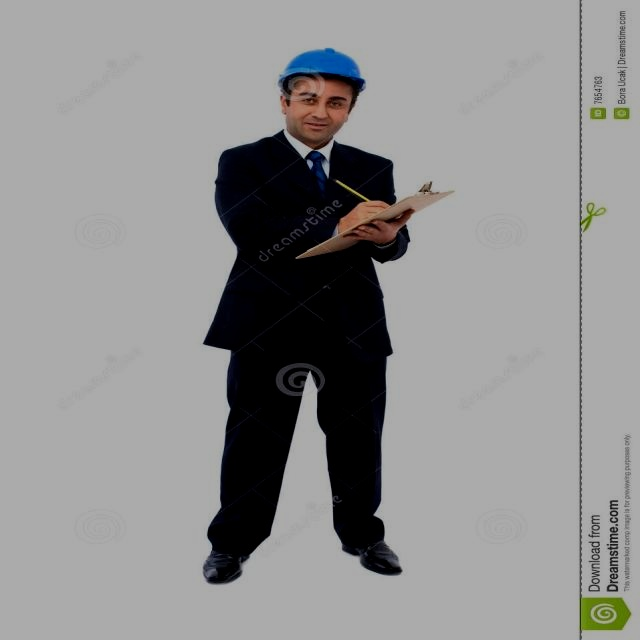Con_Casco: (278, 48, 367, 136)
Sin_Chaleco: (213, 141, 398, 351)
